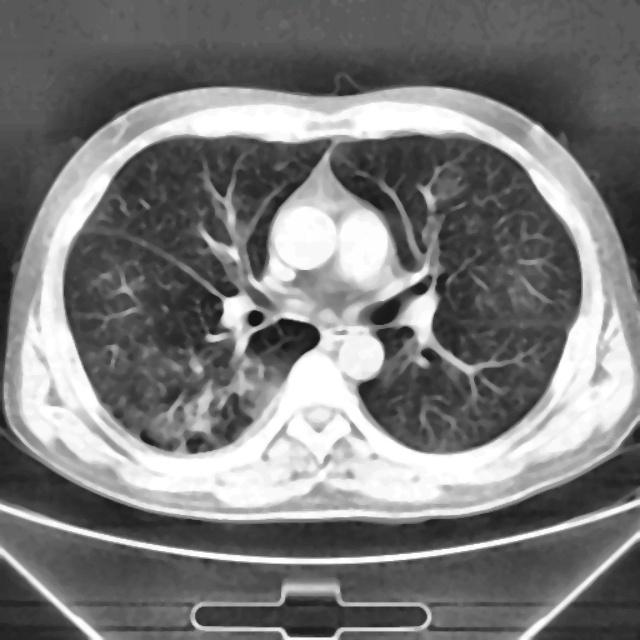covid: (2, 82, 638, 523)
